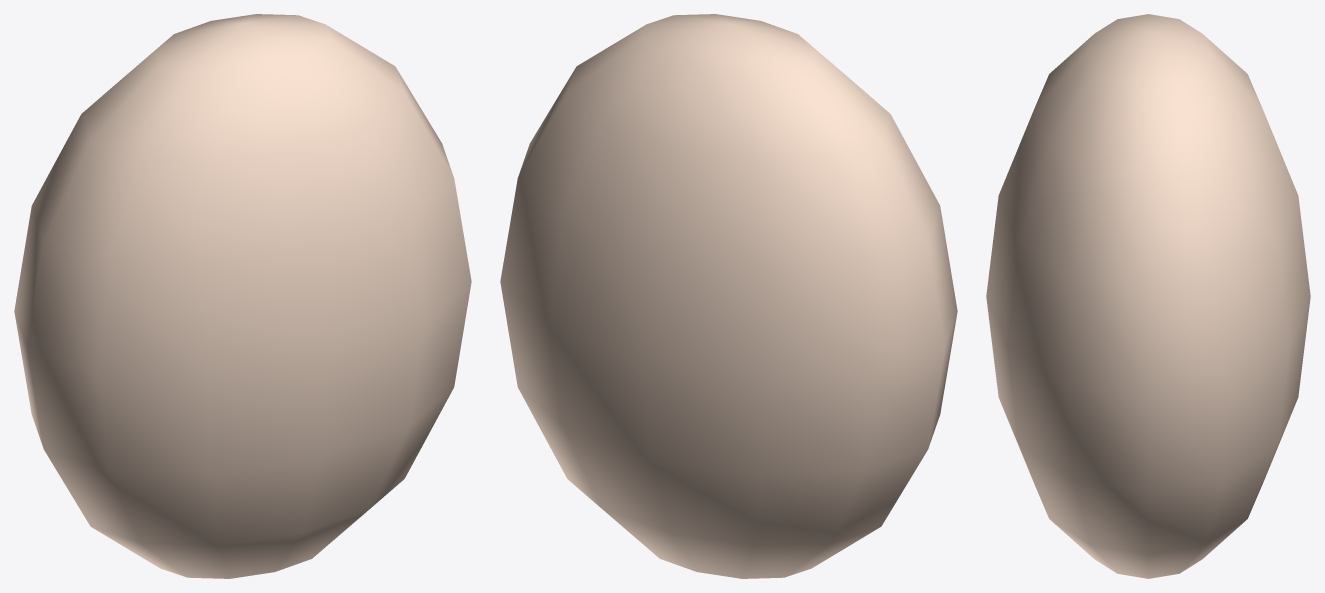
The model's file is body-chibi-02.glb.
The picture shows the model from 3 angles, left to right: view 1: azimuth 30°, elevation 25°; view 2: azimuth 150°, elevation 25°; view 3: azimuth 270°, elevation 25°; orthographic projection. The views are drawn at different scales.
Visible parts, largest first — view 1: part_0; view 2: part_0; view 3: part_0.
Boxes of the visible parts, bbox=[...] form: part_0: bbox=[14, 14, 471, 578]; part_0: bbox=[500, 14, 957, 578]; part_0: bbox=[986, 14, 1310, 578].
Size of the model in its own units: 0.86 by 1.04 by 0.58.
